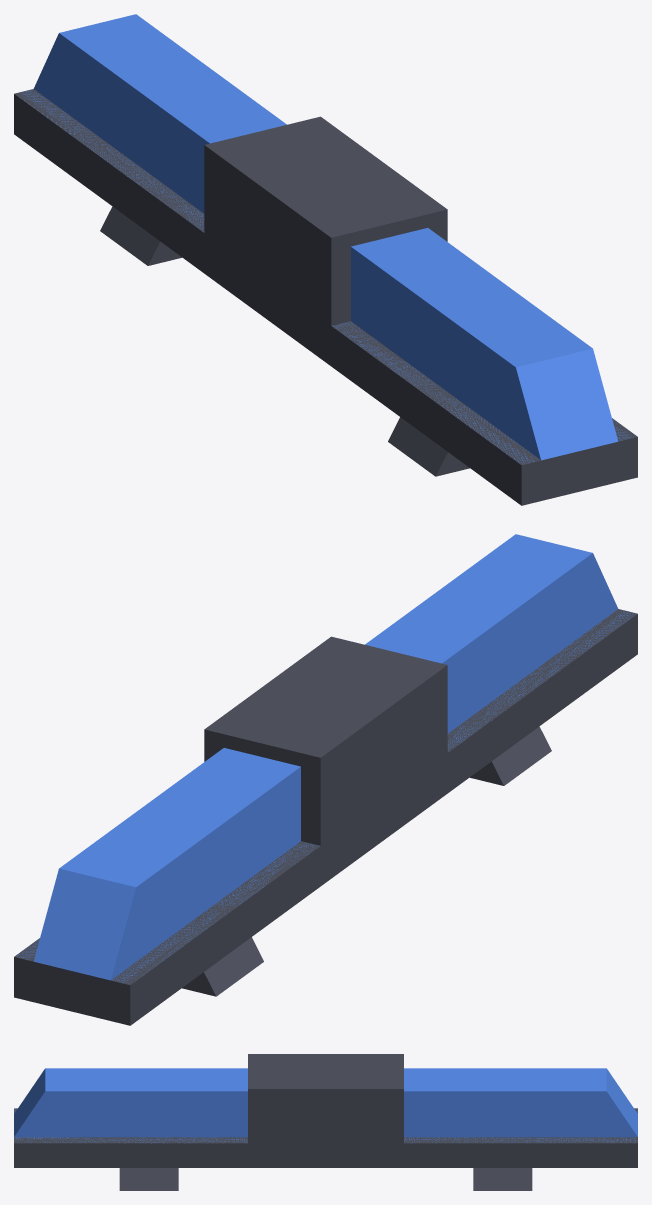
File: TurretGunsLeft.obj
The picture shows the model from 3 angles, top to bottom: view 1: azimuth 30°, elevation 25°; view 2: azimuth 150°, elevation 25°; view 3: azimuth 270°, elevation 25°; orthographic projection. The views are drawn at different scales.
Size of the model in its own units: 0.1254 by 0.1585 by 0.8976.
